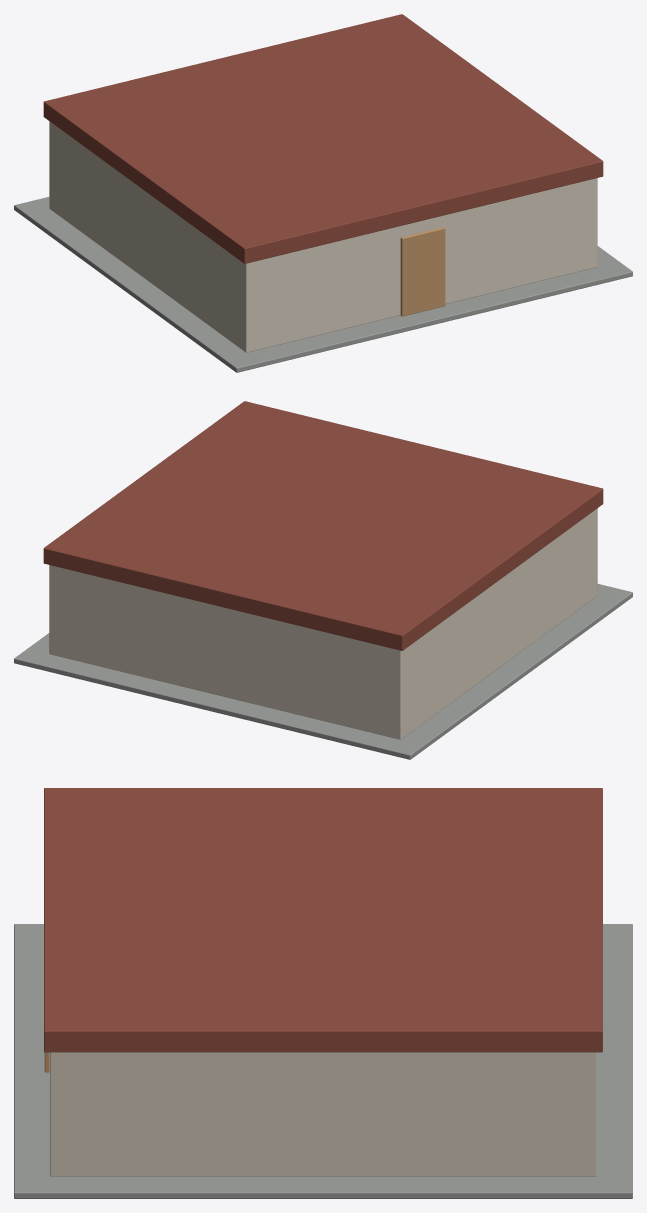
The model's file is Building_Residential_002.glb.
3 views of the same model, one above another, from view 1: azimuth 30°, elevation 25°; view 2: azimuth 150°, elevation 25°; view 3: azimuth 270°, elevation 25° (orthographic). The views are drawn at different scales.
Parts seen in each view (by area): view 1: Building_Residential_002; view 2: Building_Residential_002; view 3: Building_Residential_002.
Boxes of the visible parts, left/top/right/bottom form: Building_Residential_002: left=14, top=14, right=632, bottom=372; Building_Residential_002: left=14, top=401, right=632, bottom=759; Building_Residential_002: left=14, top=788, right=632, bottom=1198.
Bounding box in the file's own units: 13.23 × 3.57 × 12.88.
